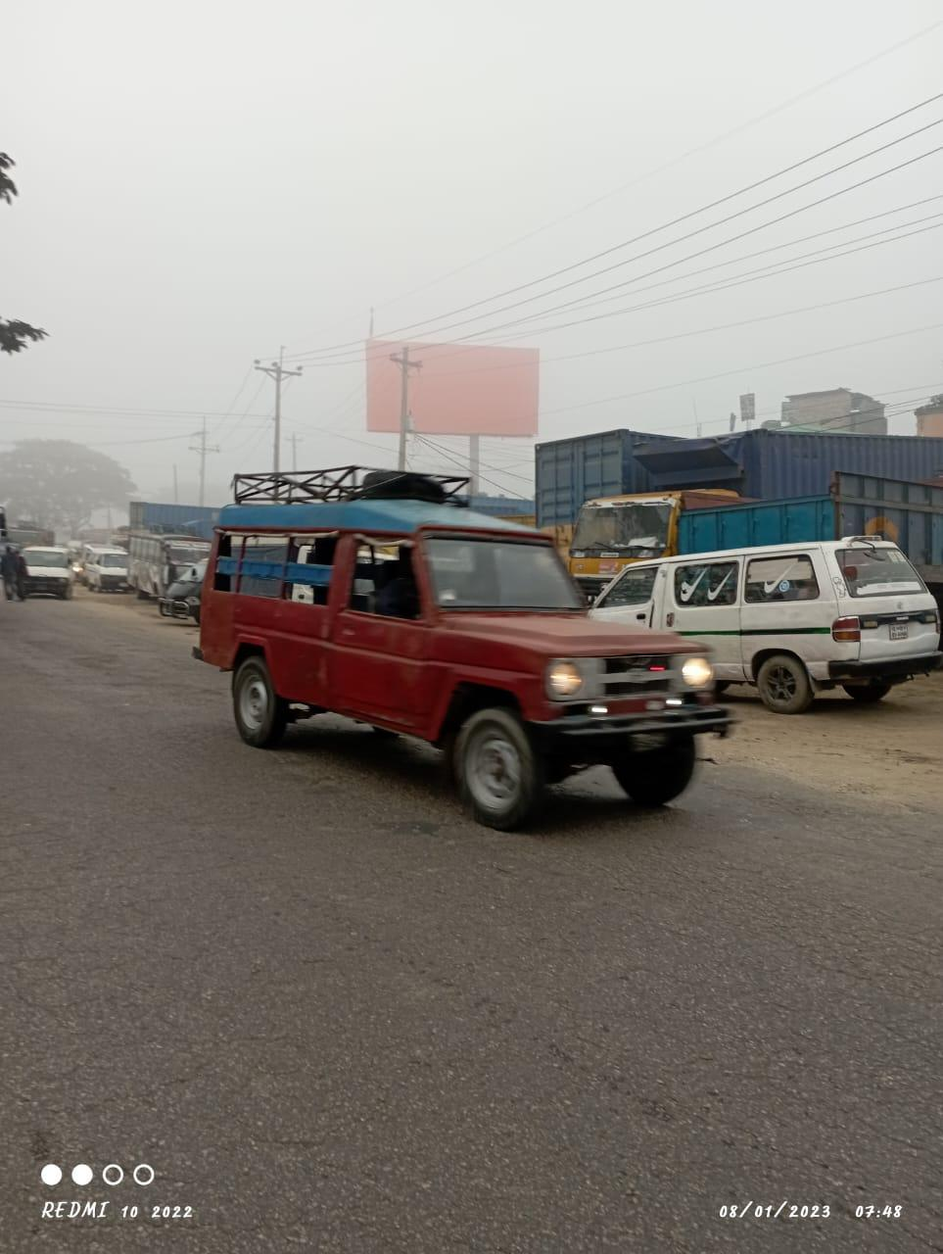Bus: (118, 518, 200, 610)
Car: (188, 462, 721, 846), (596, 534, 942, 712), (13, 537, 83, 607)
